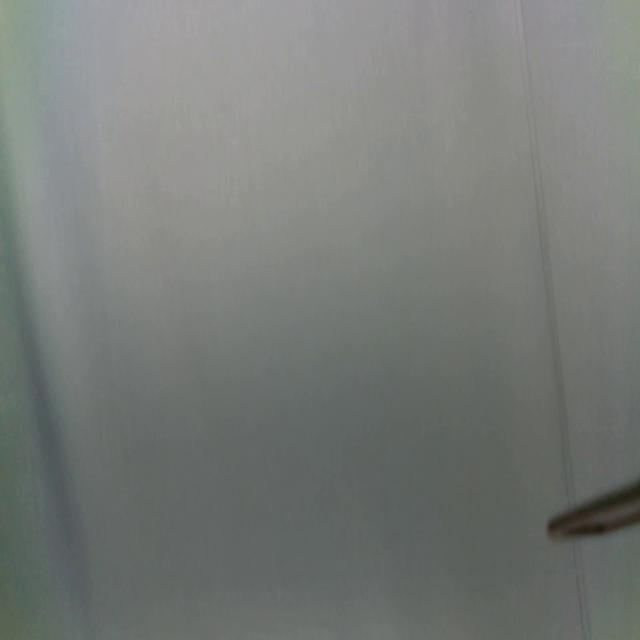crease: (514, 0, 576, 502), (572, 540, 592, 640)
